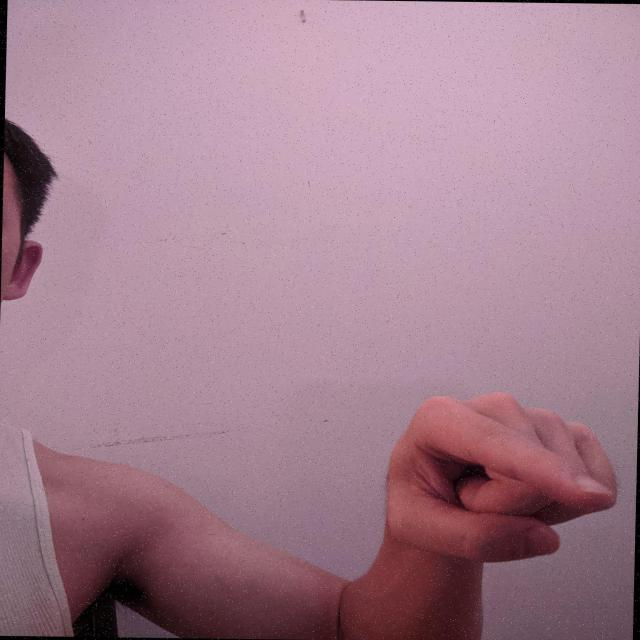Z: (378, 388, 625, 570)
